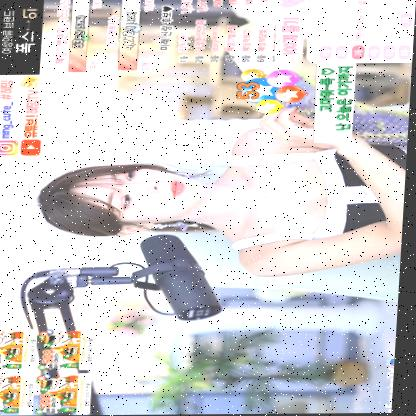donation: (229, 64, 357, 145), (39, 328, 99, 371), (38, 373, 96, 415), (0, 329, 41, 371), (0, 374, 39, 416)
streamer: (33, 64, 413, 279)
